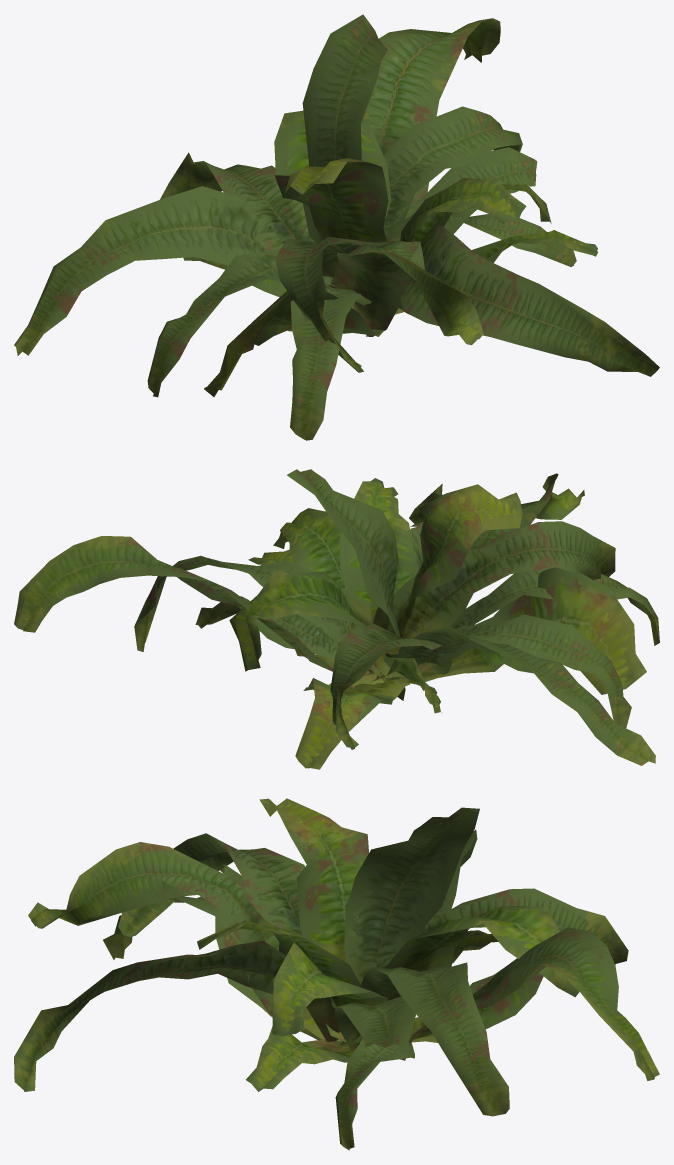
Rendered from fern_02.glb.
3 renders of one model, top to bottom at view 1: azimuth 30°, elevation 25°; view 2: azimuth 150°, elevation 25°; view 3: azimuth 270°, elevation 25°, orthographic. The views are drawn at different scales.
Parts seen in each view (by area): view 1: fern_02_b; view 2: fern_02_b; view 3: fern_02_b.
Part boxes in pixels (x1,y1,x2,y2): fern_02_b: (14,14,659,440); fern_02_b: (14,469,659,769); fern_02_b: (14,798,659,1150).
Size of the model in its own units: 0.9897 by 0.4277 by 0.8937.
1 material, 1 textured.
